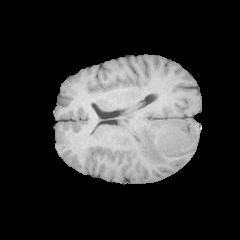glioma: (132, 119, 196, 164)
